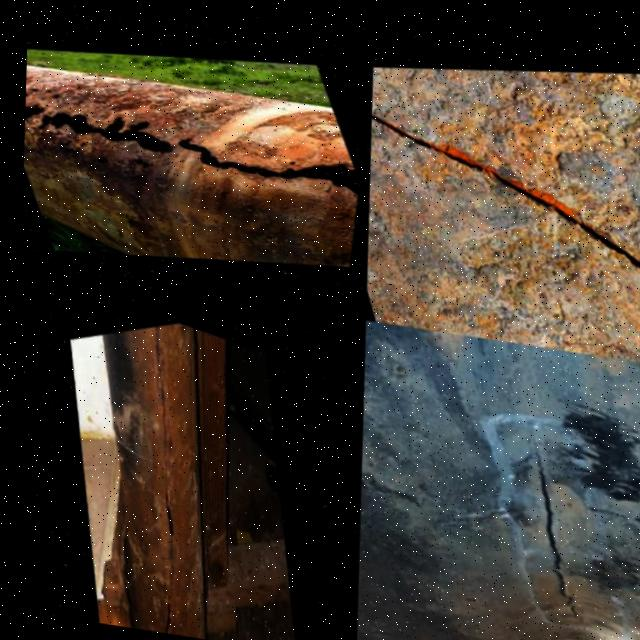crack: (368, 101, 640, 264), (521, 420, 589, 615), (142, 316, 172, 631)
hole: (170, 117, 285, 190), (86, 97, 189, 167), (283, 140, 363, 205), (30, 100, 108, 151), (22, 100, 53, 123), (128, 149, 157, 170), (89, 148, 116, 166), (21, 96, 33, 127), (22, 87, 39, 108), (44, 88, 67, 102), (29, 84, 42, 94), (43, 84, 56, 94)
